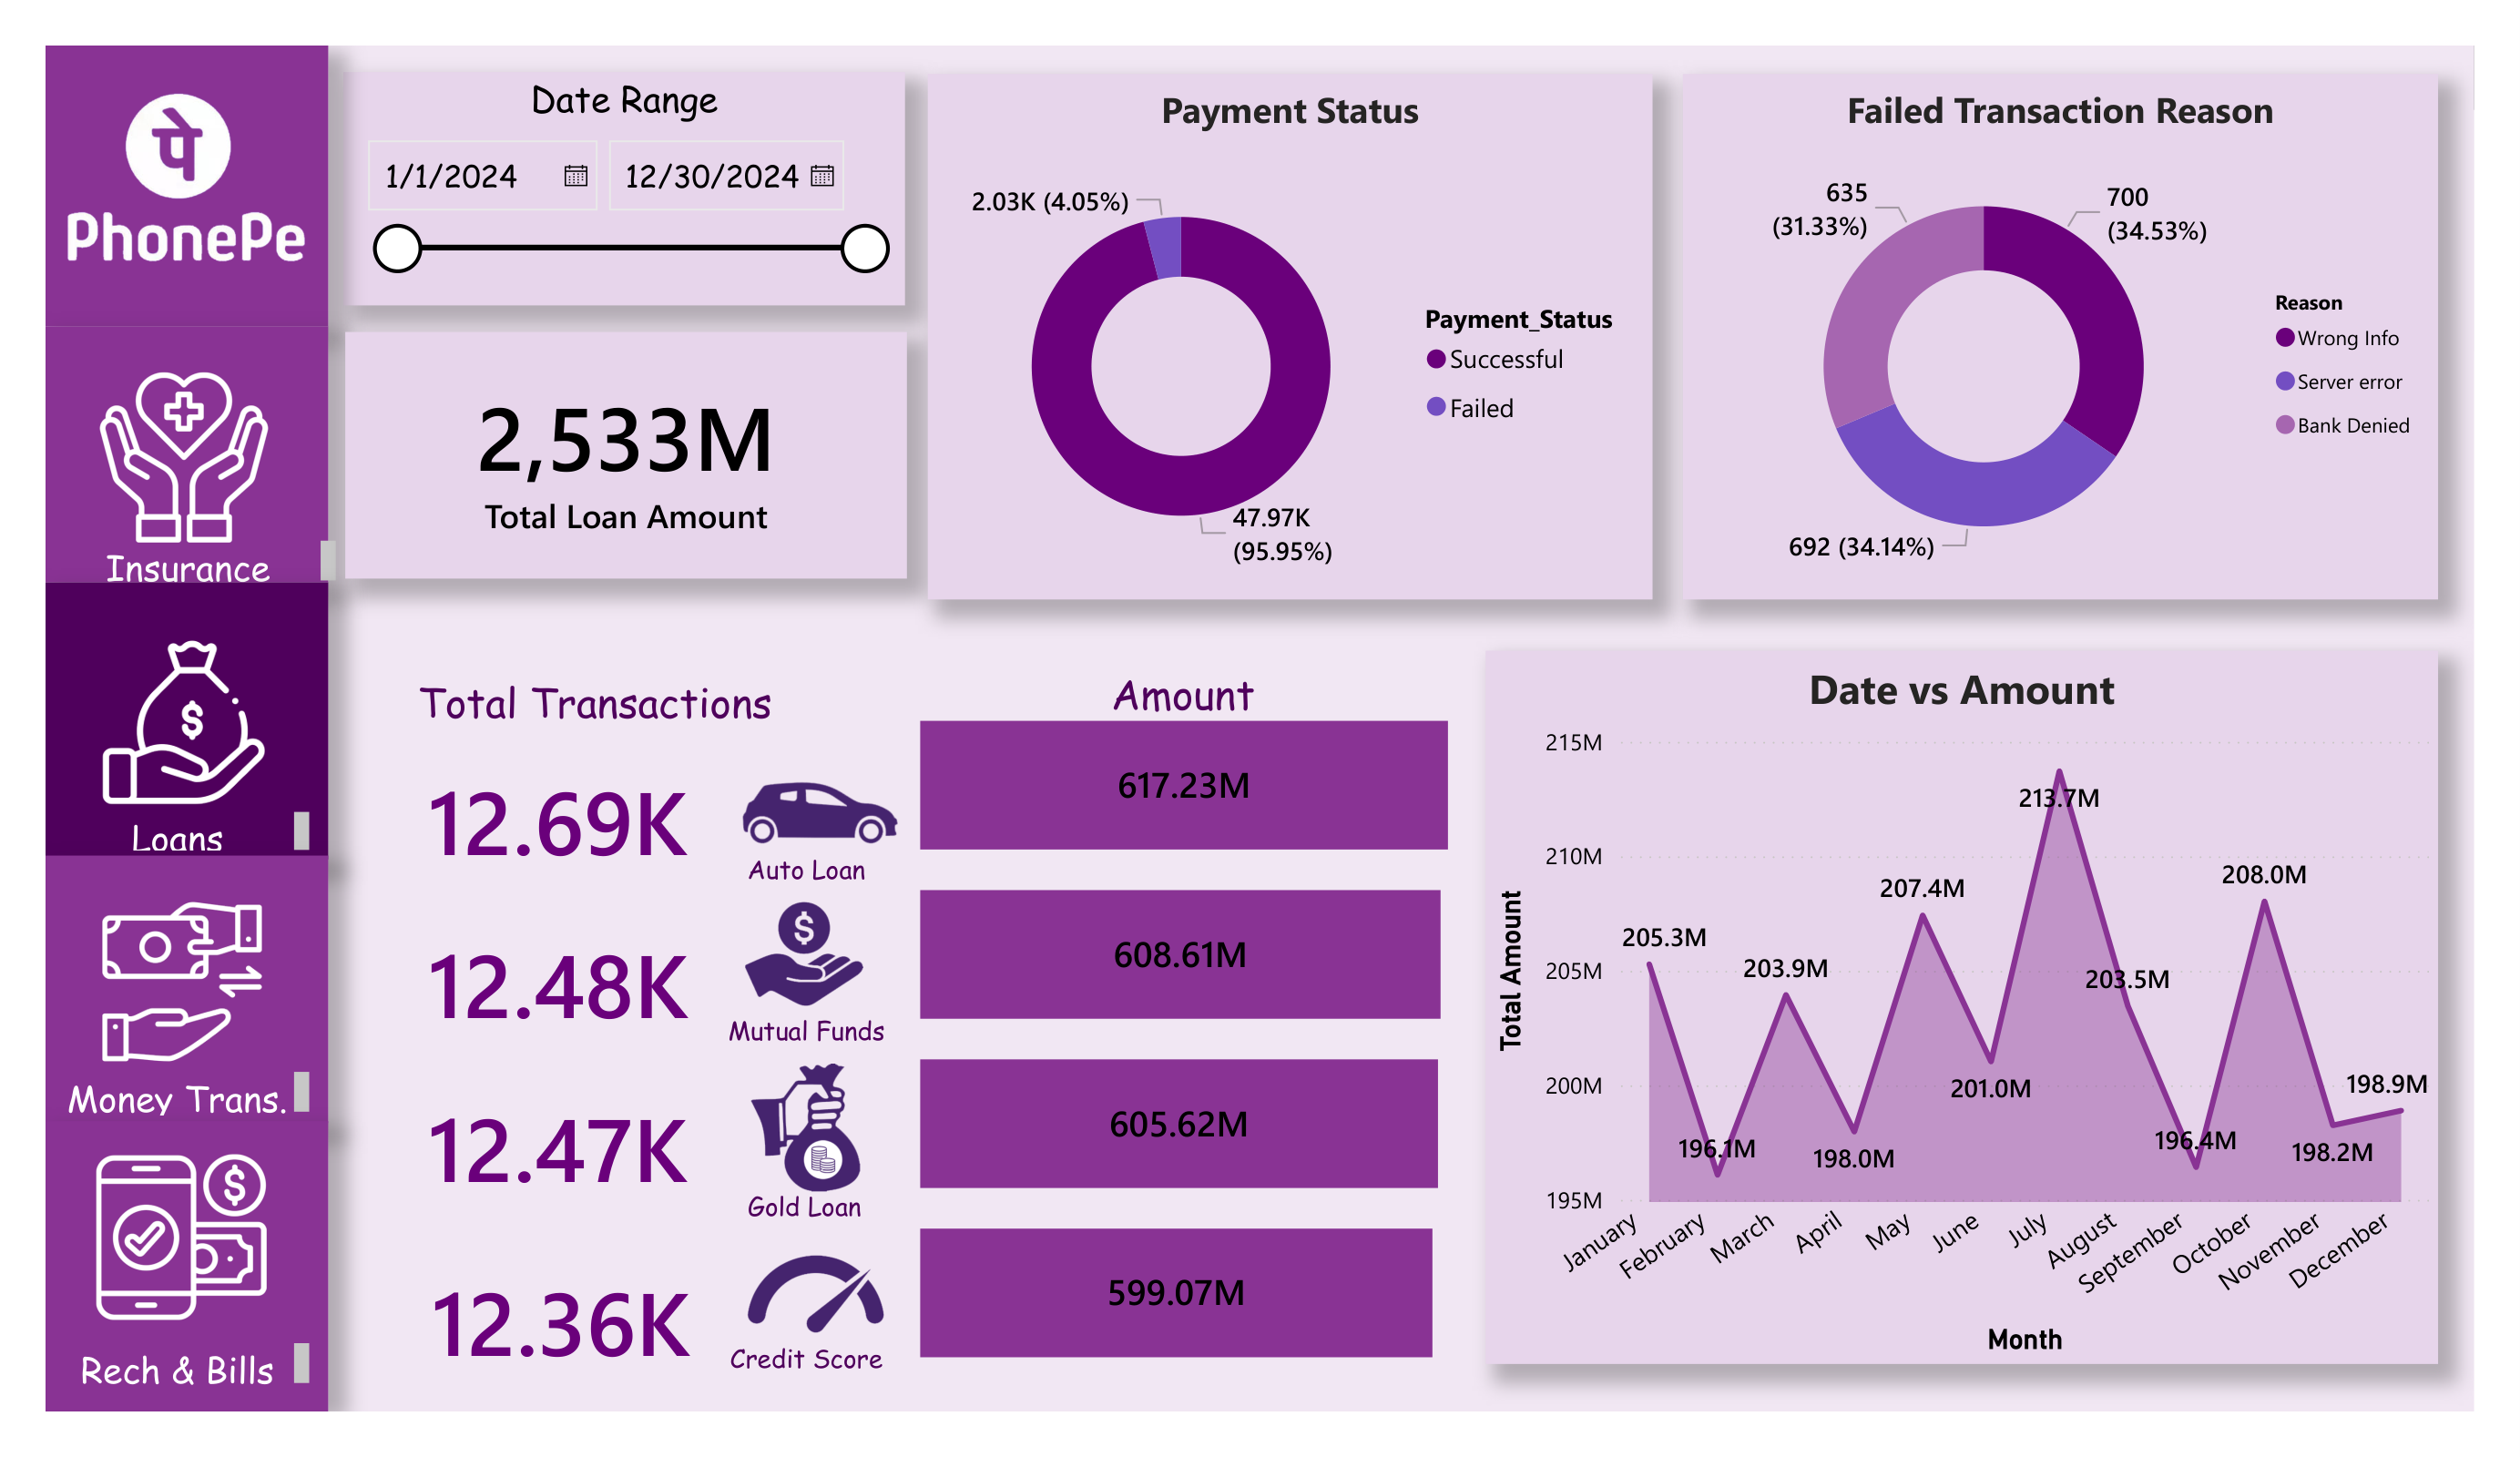

Layout of this report page (visuals, bound fields, positions):
{"tool":"powerbi","page":{"name":"Loans","canvas":[1280,720],"ordinal":2},"visuals":[{"type":"shape","box":[0,0,148.8,147.5],"z":0,"group":"g1"},{"type":"slicer","title":"Date Range","fields":{"Values":["Loans.Date"]},"box":[157.1,14.3,295.7,122.9],"z":0},{"type":"group","id":"g1","title":"Group 1","box":[0,0,148.8,147.5],"z":1000},{"type":"shape","box":[0,147.5,148.8,135],"z":1000,"group":"g2"},{"type":"group","id":"g2","title":"Group 2","box":[0,147.5,157.5,141.2],"z":2000},{"type":"shape","box":[0,282.5,148.8,146.1],"z":2000,"group":"g3"},{"type":"group","id":"g3","title":"Group 3","box":[0,282.5,148.8,146.2],"z":3000},{"type":"shape","box":[0,427.1,148.6,141.4],"z":3000,"group":"g4"},{"type":"group","id":"g4","title":"Group 4","box":[0,427.1,148.6,141.6],"z":4000},{"type":"shape","box":[0,567.1,148.6,152.9],"z":4000,"group":"g5"},{"type":"image","box":[6.2,7.5,135,130],"z":5000,"group":"g1"},{"type":"group","id":"g5","title":"Group 5","box":[0,567.1,148.6,152.9],"z":5000},{"type":"actionButton","box":[0,0,148.6,147.1],"z":6000},{"type":"image","box":[15,307.1,118.9,95.9],"z":6000,"group":"g3"},{"type":"actionButton","box":[0,147.5,148.8,141.2],"z":7000},{"type":"image","box":[23.8,440,96.2,107.5],"z":7000,"group":"g4"},{"type":"actionButton","box":[0,440,143.8,128.8],"z":8000},{"type":"image","box":[13.8,577.5,115,101.2],"z":8000,"group":"g5"},{"type":"image","box":[18.6,161.4,108.6,110],"z":9000,"group":"g2"},{"type":"actionButton","box":[0,567.5,148.8,152.5],"z":9000},{"type":"card","title":"Total Transaction Amount","fields":{"Values":["Sum(Loans.Loan_Amount)"]},"box":[158,150.8,295.6,130.3],"z":10000},{"type":"textbox","box":[0,255,157.5,33.8],"z":10000,"group":"g2"},{"type":"donutChart","title":"Payment Status","fields":{"Category":["Loans.Payment_Status"],"Y":["CountNonNull(Loans.Payment_Status)"]},"box":[465.2,15.1,381.5,277.2],"z":11000},{"type":"textbox","box":[2.5,398,141.4,30.7],"z":11000,"group":"g3"},{"type":"donutChart","title":"Failed Transaction Reason","fields":{"Category":["Loans.Reason"],"Y":["CountNonNull(Loans.Reason)"]},"box":[863.1,15.1,397.9,277.2],"z":12000},{"type":"textbox","box":[2.5,536.2,141.2,32.5],"z":12000,"group":"g4"},{"type":"areaChart","title":"Date vs Amount","fields":{"Category":["Loans.Date.Variation.Date Hierarchy.Month"],"Y":["Sum(Loans.Loan_Amount)"]},"box":[758.9,318.5,501.9,376.4],"z":13000},{"type":"textbox","box":[2.5,678.7,141.2,32.5],"z":13000,"group":"g5"},{"type":"clusteredBarChart","title":"Date vs Amount","fields":{"Category":["Loans.Loan_Type"],"Y":["Sum(Loans.Loan_Amount)"]},"box":[455.6,343.1,359.5,356.8],"z":14000},{"type":"textbox","box":[179.8,325.2,219.6,68.6],"z":15000},{"type":"textbox","box":[489.9,321.1,219.6,68.6],"z":16000},{"type":"image","box":[366.4,369.1,86.4,68.6],"z":17000},{"type":"image","box":[356.8,436.4,86.4,85.1],"z":18000},{"type":"image","box":[355.4,525.6,90.6,89.2],"z":19000},{"type":"image","box":[366.4,614.8,79.6,86.4],"z":20000},{"type":"card","title":"Total Transaction Amount","fields":{"Values":["CountNonNull(Loans.Transaction_ID)"]},"box":[157.1,368.6,225.7,77.1],"z":21000},{"type":"card","title":"Total Transaction Amount","fields":{"Values":["CountNonNull(Loans.Transaction_ID)"]},"box":[157.1,454.3,225.7,78.6],"z":22000},{"type":"card","title":"Total Transaction Amount","fields":{"Values":["CountNonNull(Loans.Transaction_ID)"]},"box":[157.1,540,225.7,78.6],"z":23000},{"type":"card","title":"Total Transaction Amount","fields":{"Values":["CountNonNull(Loans.Transaction_ID)"]},"box":[158.6,632.9,225.7,77.1],"z":24000},{"type":"textbox","box":[334,419,134,35],"z":25000},{"type":"textbox","box":[334,504,134,35],"z":26000},{"type":"textbox","box":[333,597,134,35],"z":27000},{"type":"textbox","box":[334,677,134,35],"z":28000}]}

Visuals, with their boxes on the page's 1280x720 design canvas (x1, y1, x2, y2). These are canvas units, not pixel positions in the 2520x1457 screenshot, which may show the page scaled, cropped or inside an application window:
shape: 0, 0, 149, 148
"Date Range" slicer: 157, 14, 453, 137
"Group 1" group: 0, 0, 149, 148
shape: 0, 148, 149, 282
"Group 2" group: 0, 148, 158, 289
shape: 0, 282, 149, 429
"Group 3" group: 0, 282, 149, 429
shape: 0, 427, 149, 568
"Group 4" group: 0, 427, 149, 569
shape: 0, 567, 149, 720
image: 6, 8, 141, 138
"Group 5" group: 0, 567, 149, 720
actionButton: 0, 0, 149, 147
image: 15, 307, 134, 403
actionButton: 0, 148, 149, 289
image: 24, 440, 120, 548
actionButton: 0, 440, 144, 569
image: 14, 578, 129, 679
image: 19, 161, 127, 271
actionButton: 0, 568, 149, 720
"Total Transaction Amount" card: 158, 151, 454, 281
textbox: 0, 255, 158, 289
"Payment Status" donutChart: 465, 15, 847, 292
textbox: 2, 398, 144, 429
"Failed Transaction Reason" donutChart: 863, 15, 1261, 292
textbox: 2, 536, 144, 569
"Date vs Amount" areaChart: 759, 318, 1261, 695
textbox: 2, 679, 144, 711
"Date vs Amount" clusteredBarChart: 456, 343, 815, 700
textbox: 180, 325, 399, 394
textbox: 490, 321, 710, 390
image: 366, 369, 453, 438
image: 357, 436, 443, 522
image: 355, 526, 446, 615
image: 366, 615, 446, 701
"Total Transaction Amount" card: 157, 369, 383, 446
"Total Transaction Amount" card: 157, 454, 383, 533
"Total Transaction Amount" card: 157, 540, 383, 619
"Total Transaction Amount" card: 159, 633, 384, 710
textbox: 334, 419, 468, 454
textbox: 334, 504, 468, 539
textbox: 333, 597, 467, 632
textbox: 334, 677, 468, 712
